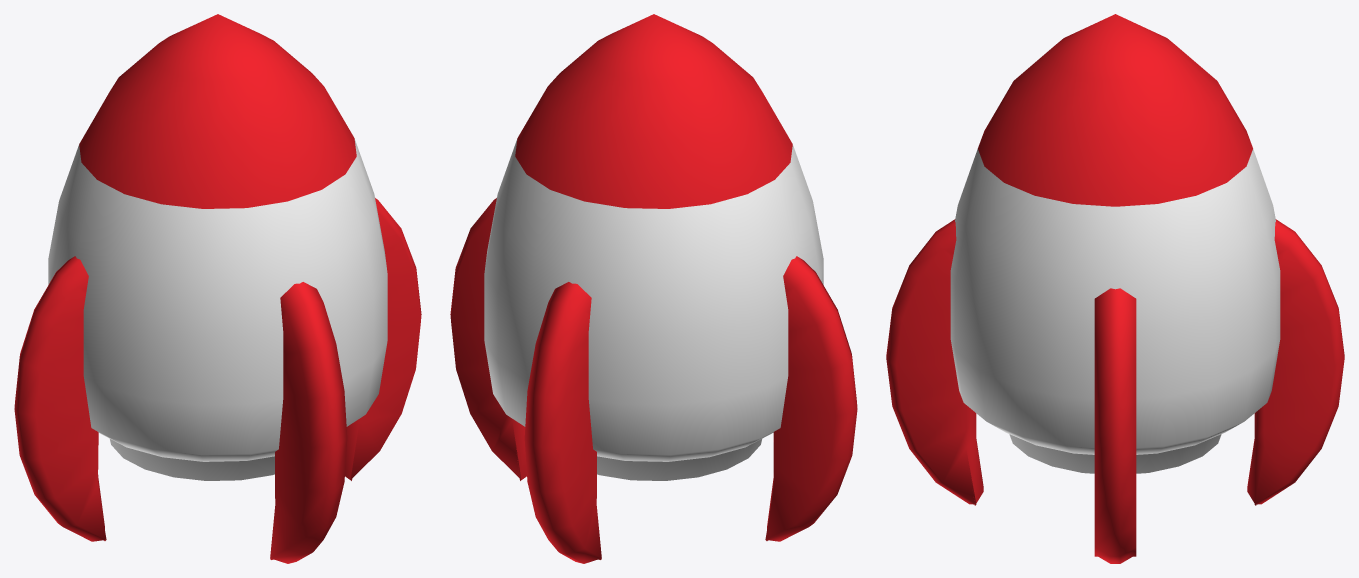
The model's file is Rocket.fbx.
The picture shows the model from 3 angles, left to right: view 1: azimuth 30°, elevation 25°; view 2: azimuth 150°, elevation 25°; view 3: azimuth 270°, elevation 25°; orthographic projection.
Visible parts, largest first — view 1: rocket; view 2: rocket; view 3: rocket.
Part boxes in pixels (x1,y1,x2,y2): rocket: (14, 14, 421, 563); rocket: (450, 14, 857, 563); rocket: (886, 14, 1344, 563).
Bounding box in the file's own units: 2.72 × 3.2 × 2.72.
